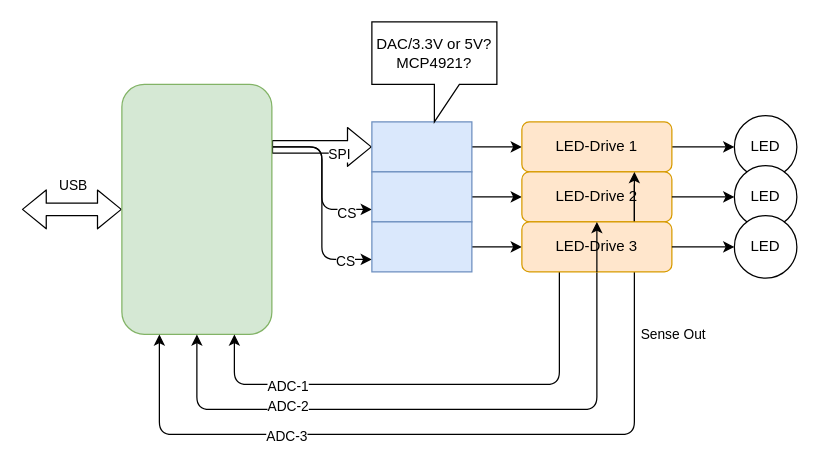
Image size: 819x466. Some labels were removed from this diagram. Here are the shapes that lost their labels. From the top down, the centre of each, then its label:
At pixel 421 146: "MCP4821-1".
At pixel 196 208: "PICO".
At pixel 421 196: "MCP4821-2".
At pixel 421 246: "MCP4821-3".
